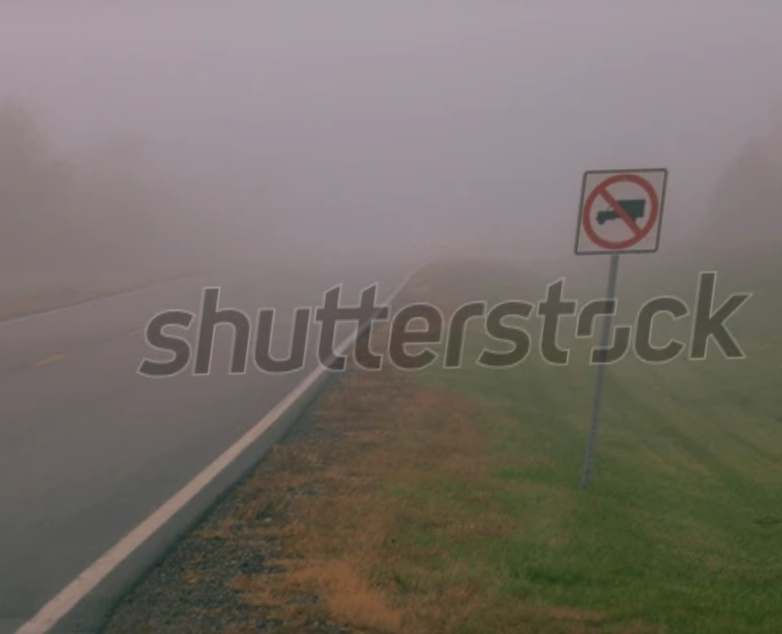No entry for heavy vehicles: (567, 158, 673, 257)
